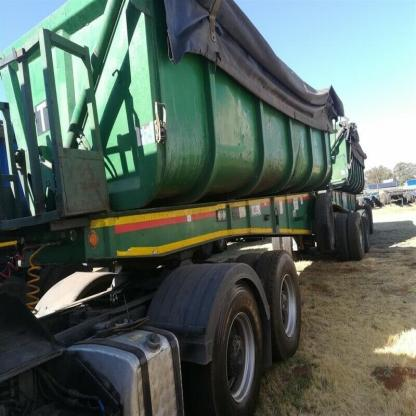dump_truck: (0, 1, 385, 414)
